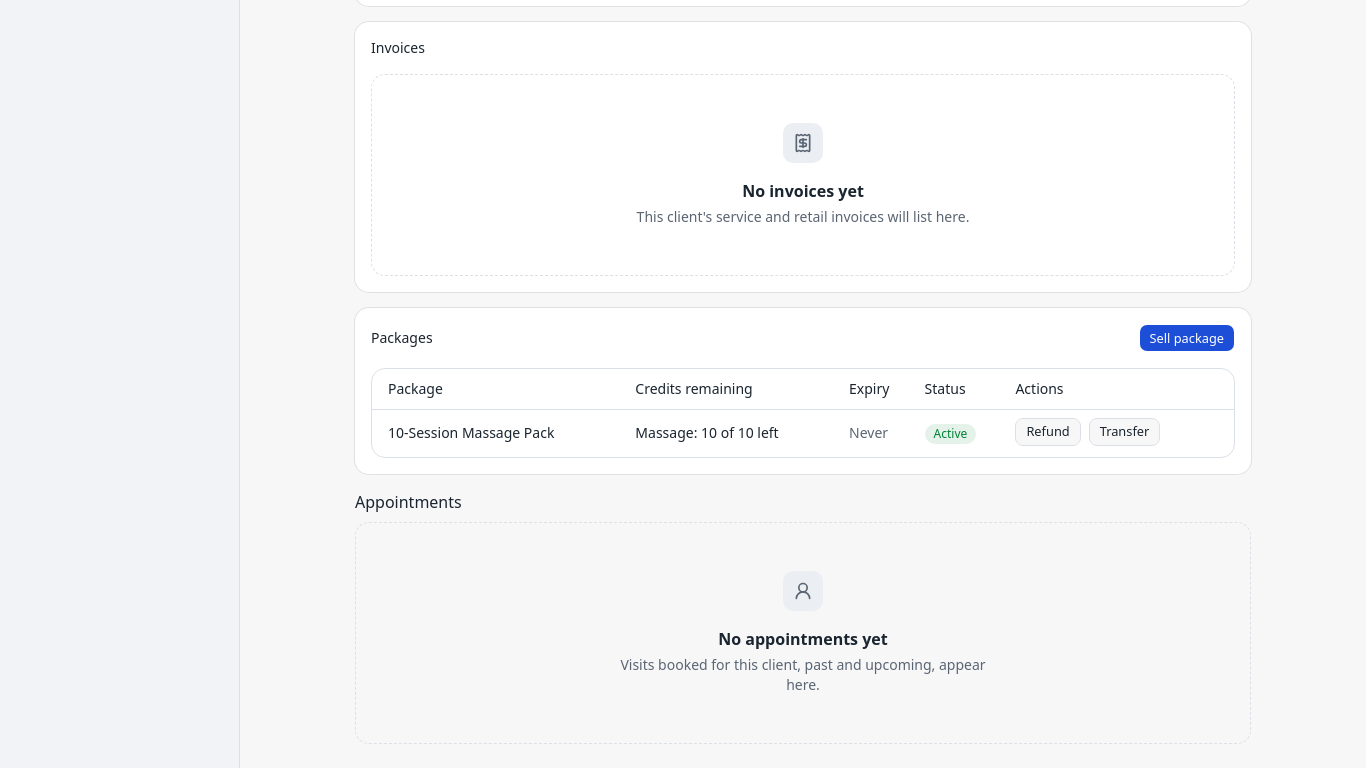
Test case: Refund pre-selects the standard amount, says who it refunds, and sends it without a manual exception
(page scrolled)
Check: the table named "Packages" is shown, box [372,369,1234,457]
Click the button "Refund".
click(1048, 432)  # box [1015,418,1081,446]
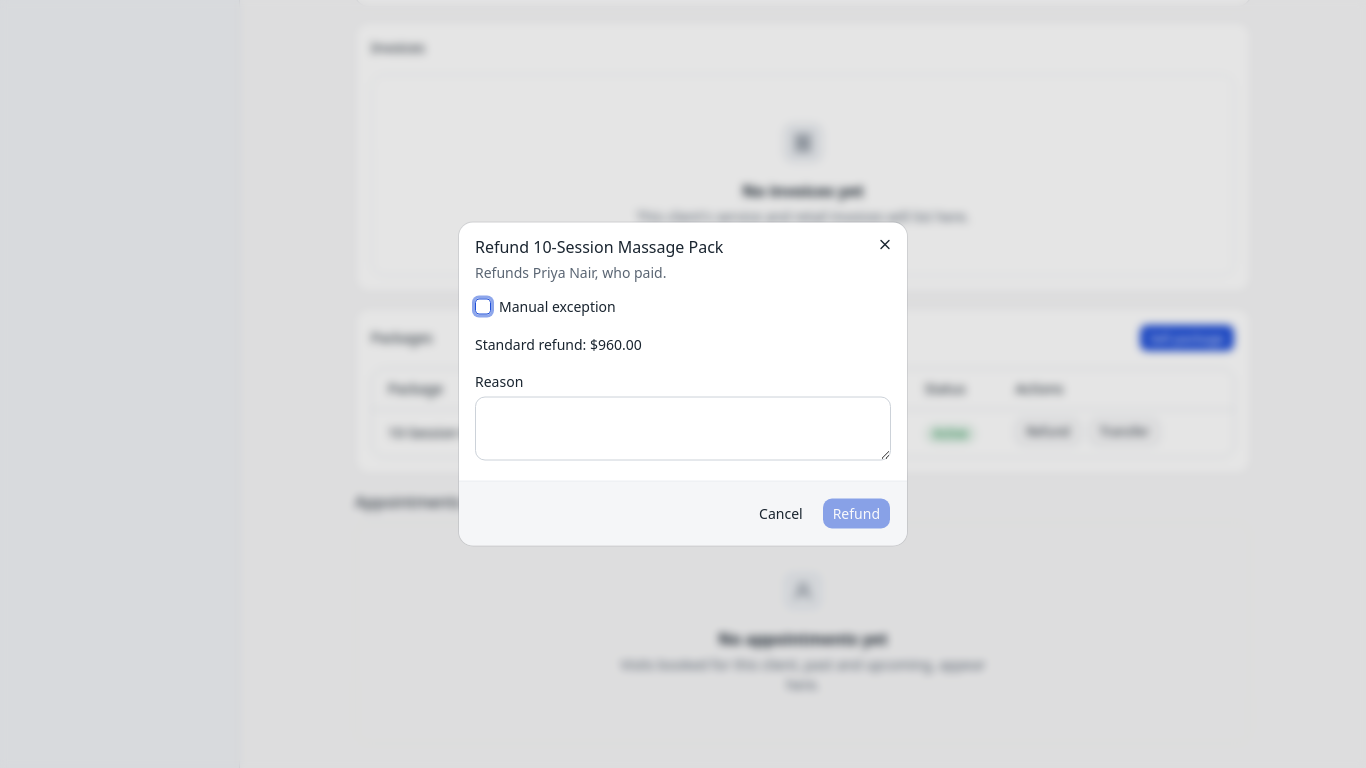
Check: the heading "Refund 10-Session Massage Pack" is shown, box [475,236,723,258]
Check: the text "Refunds Priya Nair, who paid." is shown, box [475,262,666,282]
Check: the text "$960.00" is shown, box [590,334,642,354]
Type "Client moved away" into the text box labelled "Reason".
click(683, 428); type("Client moved away")  # box [475,396,891,460]
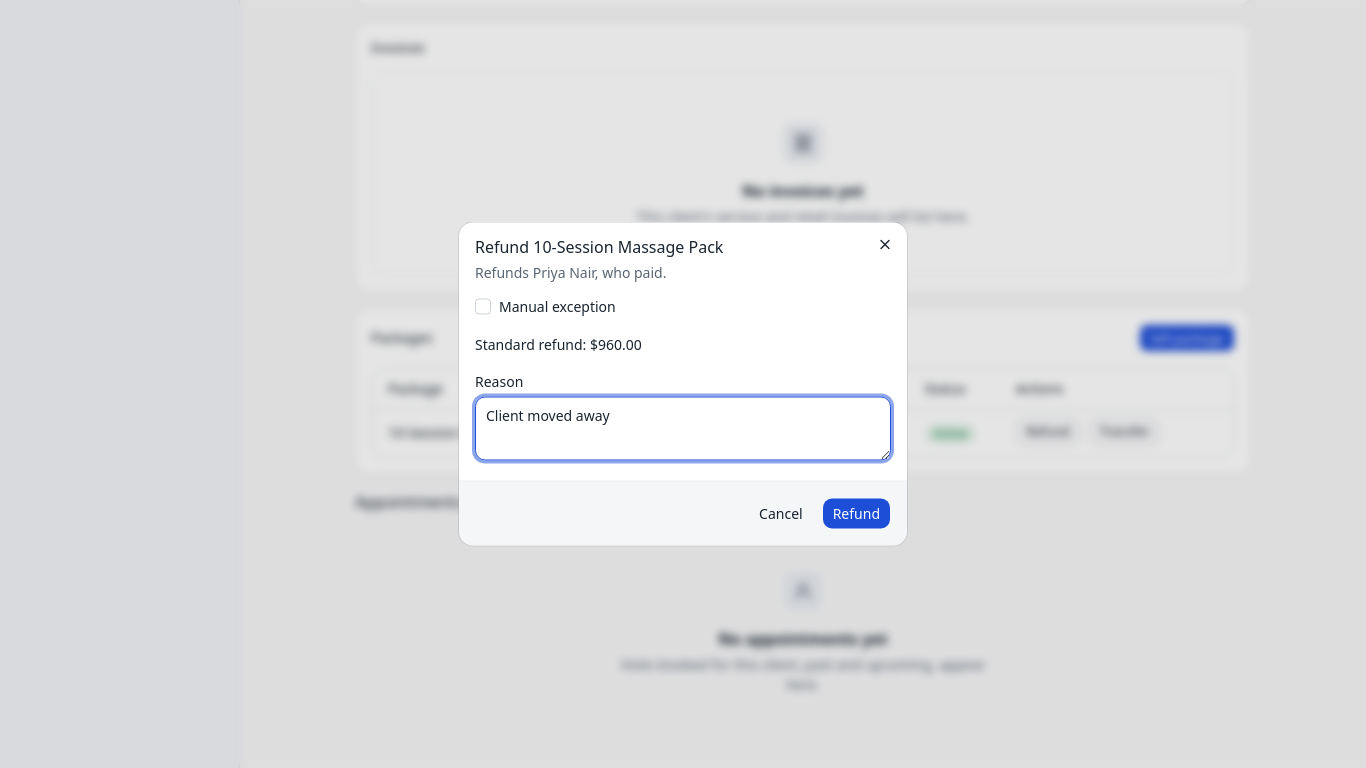
Click the button "Refund".
click(856, 514)  # box [822,498,891,530]
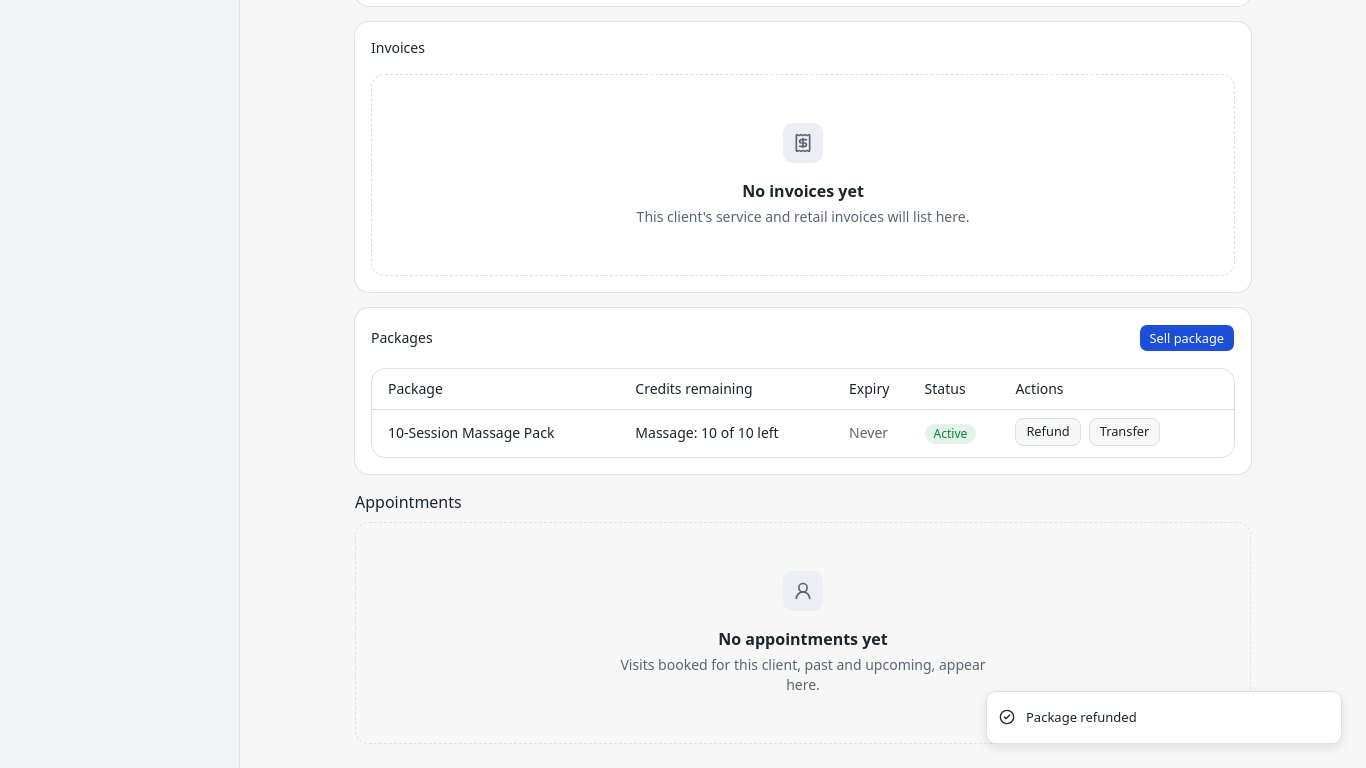
Check: the dialog is gone
